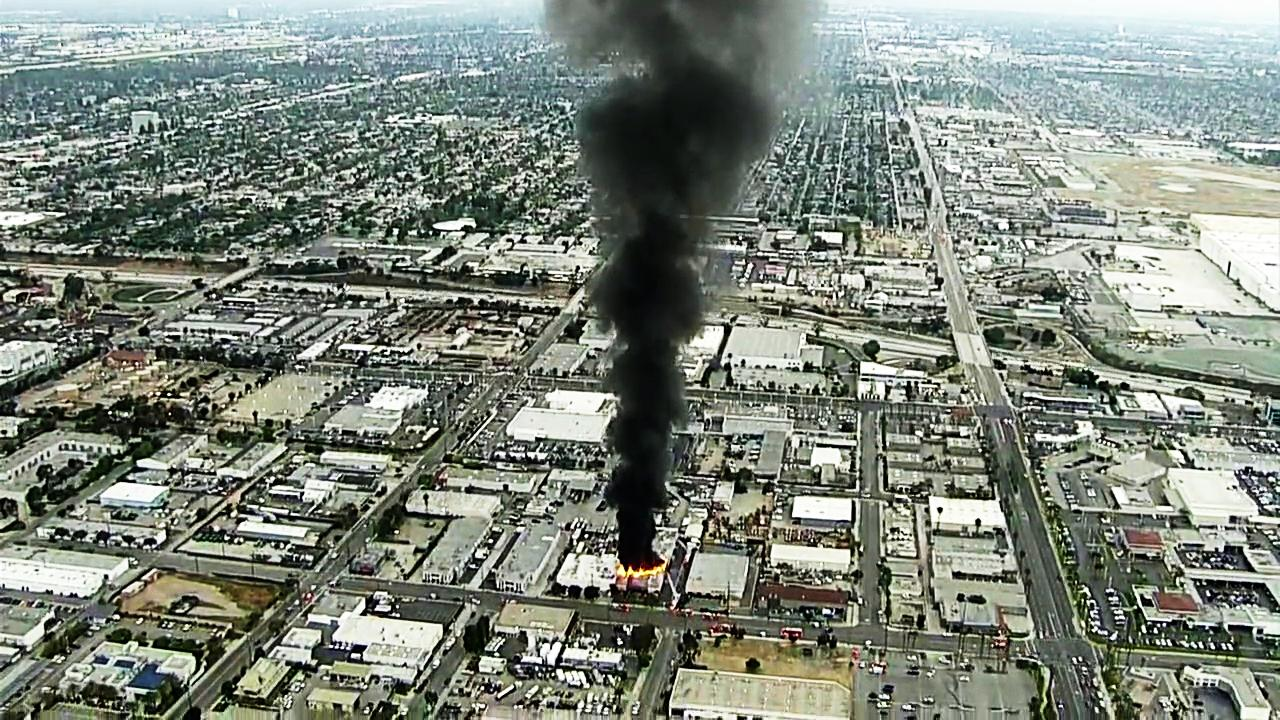smoke: (620, 90, 662, 547)
